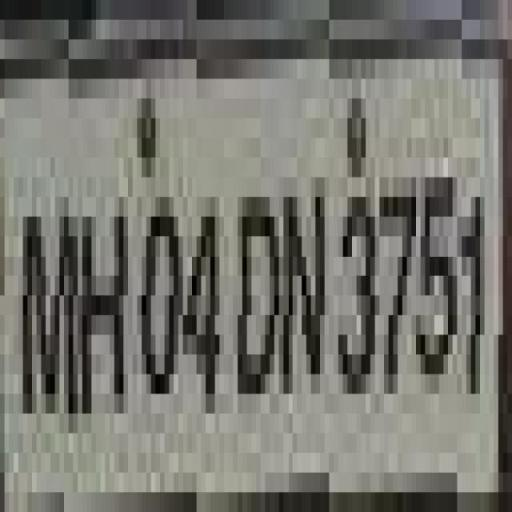number plate: (0, 39, 489, 512)
